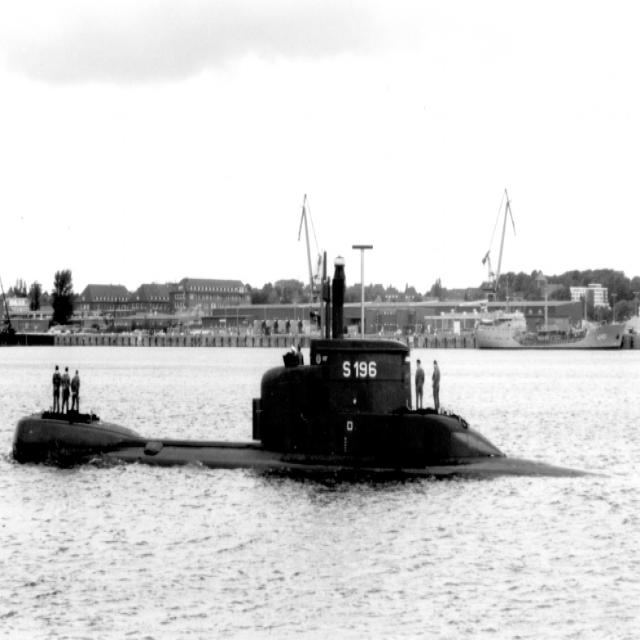submarine: (1, 245, 604, 478)
